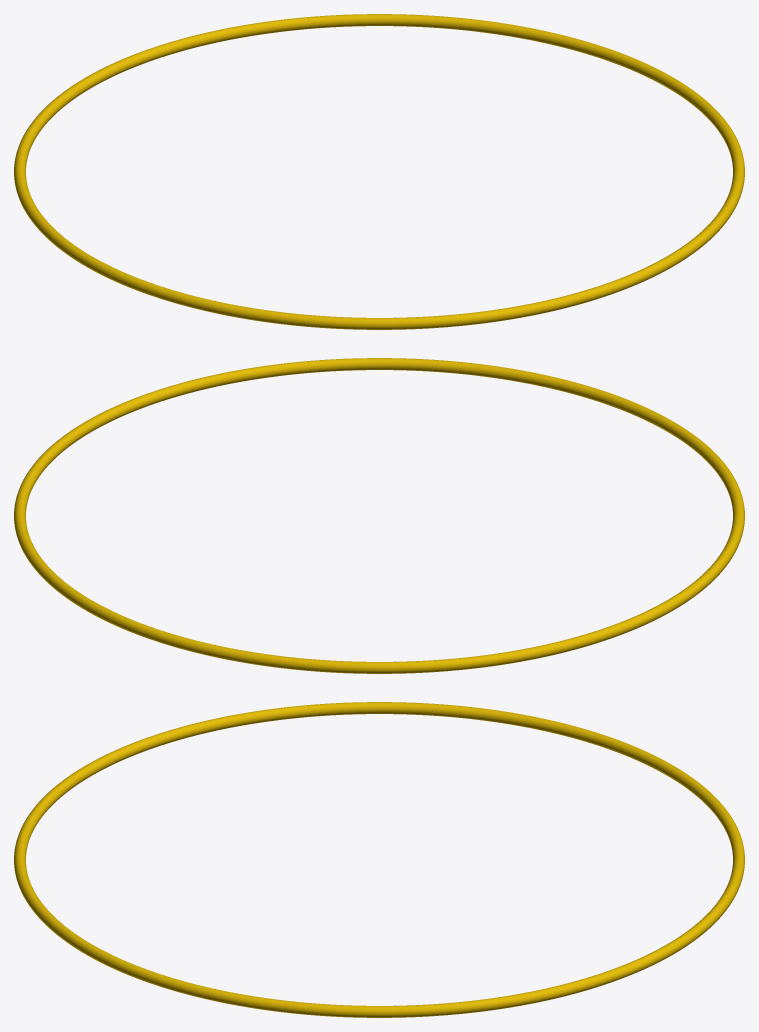
File: torus_gold_older.gltf
3 renders of one model, top to bottom at view 1: azimuth 30°, elevation 25°; view 2: azimuth 150°, elevation 25°; view 3: azimuth 270°, elevation 25°, orthographic.
Parts seen in each view (by area): view 1: sopimport1; view 2: sopimport1; view 3: sopimport1.
Boxes of the visible parts, x1,y1,x2,y2 form: sopimport1: [14, 14, 744, 329]; sopimport1: [14, 358, 744, 673]; sopimport1: [14, 702, 744, 1017].
Bounding box in the file's own units: 12.2 × 0.2 × 12.2.
